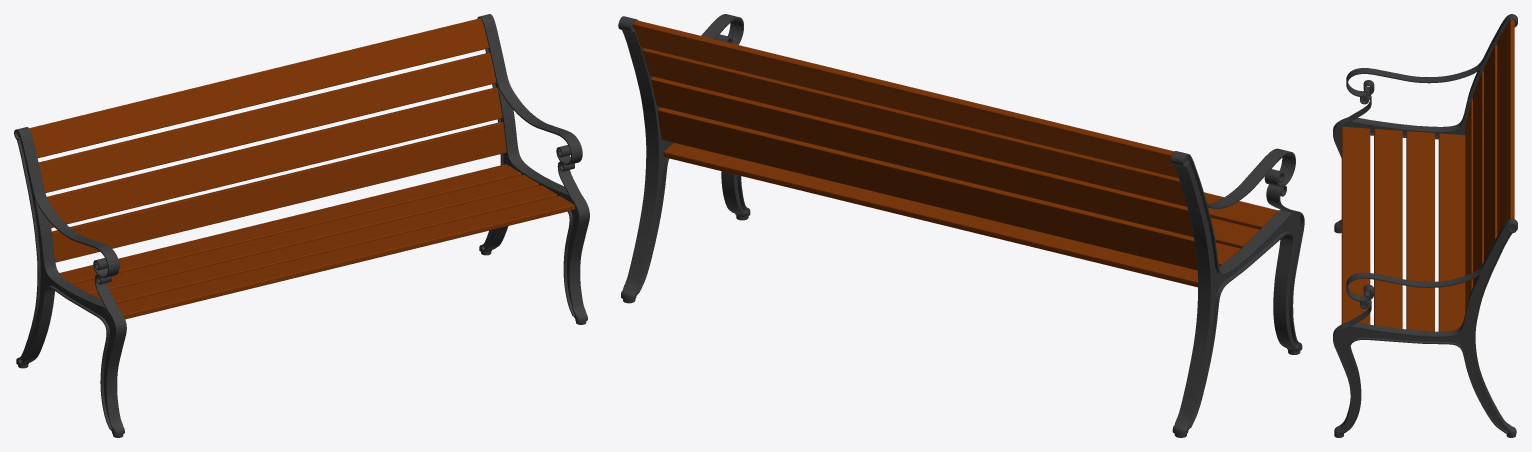
File: Bench_01.fbx
The picture shows the model from 3 angles, left to right: view 1: azimuth 30°, elevation 25°; view 2: azimuth 150°, elevation 25°; view 3: azimuth 270°, elevation 25°; orthographic projection. The views are drawn at different scales.
Parts seen in each view (by area): view 1: Bench_01; view 2: Bench_01; view 3: Bench_01.
Boxes of the visible parts, x1,y1,x2,y2 form: Bench_01: (14, 14, 589, 437); Bench_01: (618, 14, 1304, 437); Bench_01: (1333, 14, 1517, 437).
Size of the model in its own units: 169 by 80.99 by 63.08.
